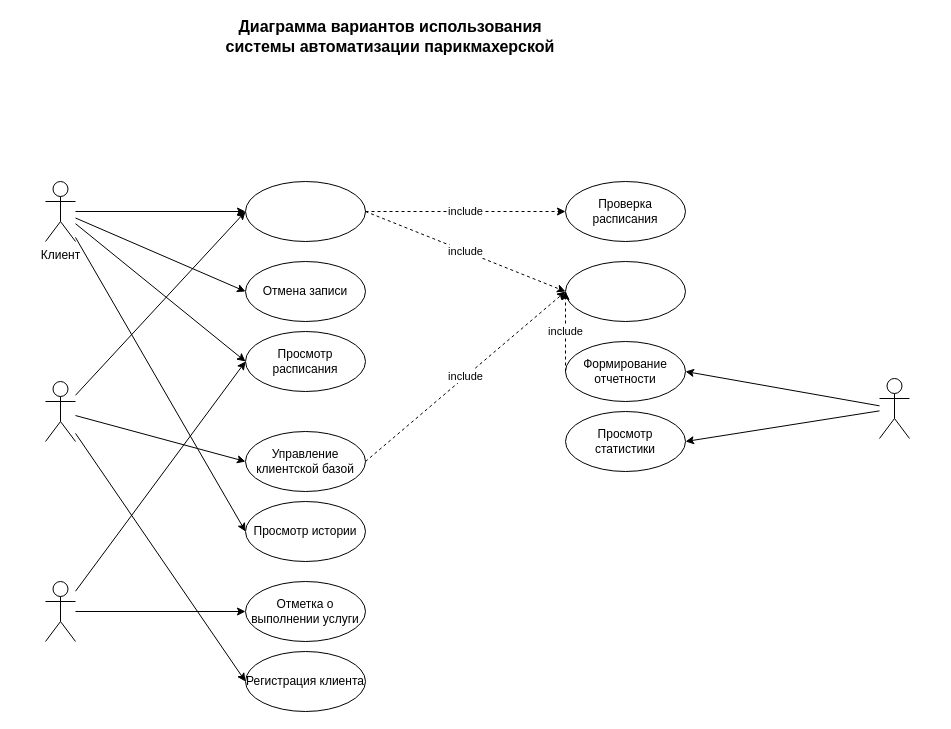
This 951x729 diagram has some shape labels left out. The centre of each missing label's shape, as x and y in pixels:
"Администратор" belongs at (60,411).
"Мастер" belongs at (60,611).
"Онлайн-запись на услугу" belongs at (305,211).
"Расчет стоимости" belongs at (625,291).
"Управляющий" belongs at (894,408).
